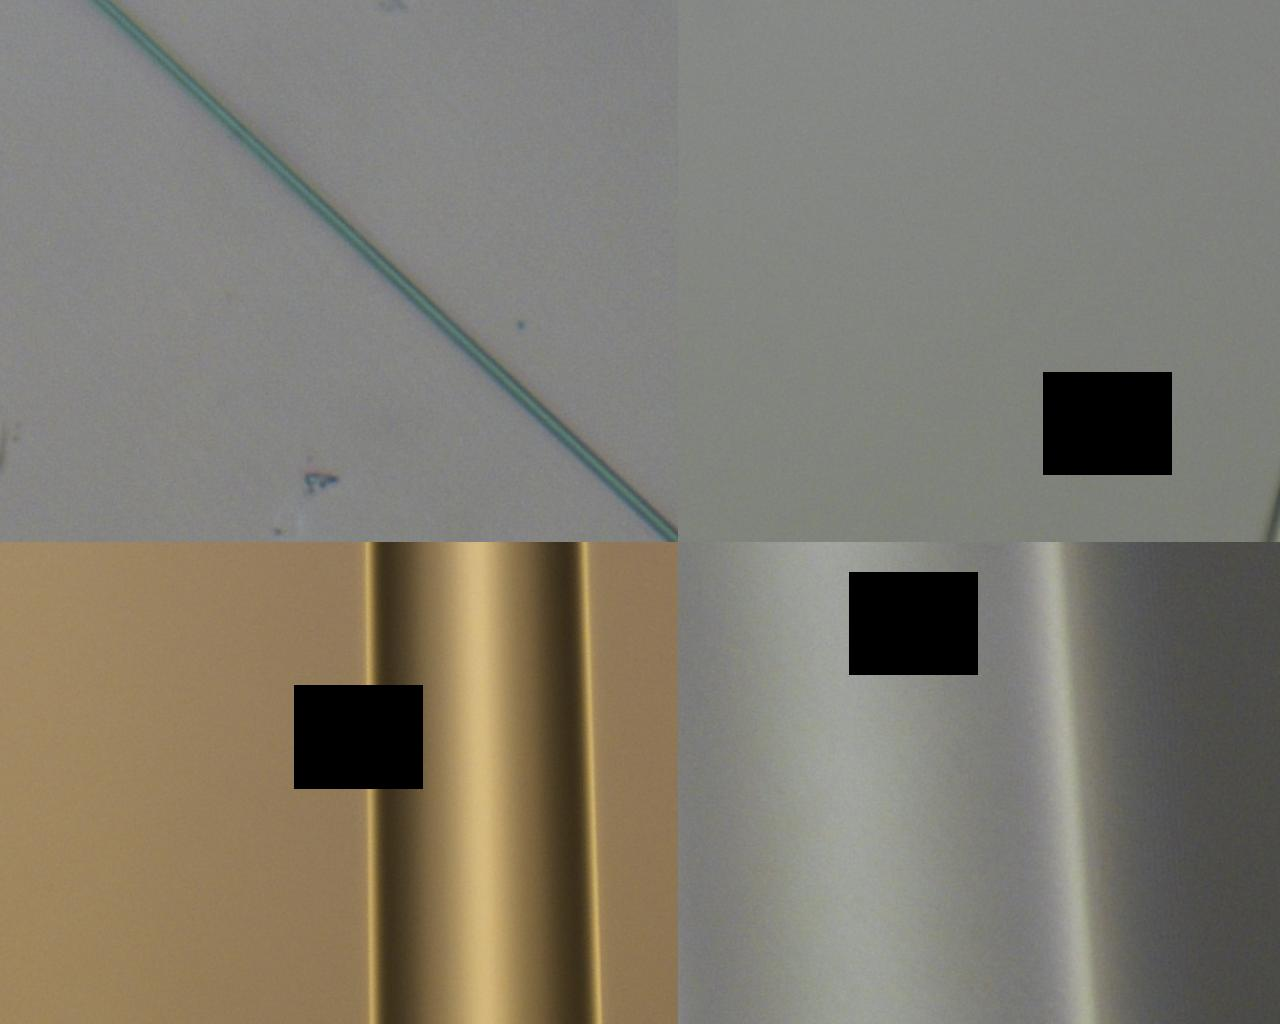fiber: (88, 0, 678, 542), (678, 542, 1101, 1024), (369, 542, 598, 1024)
